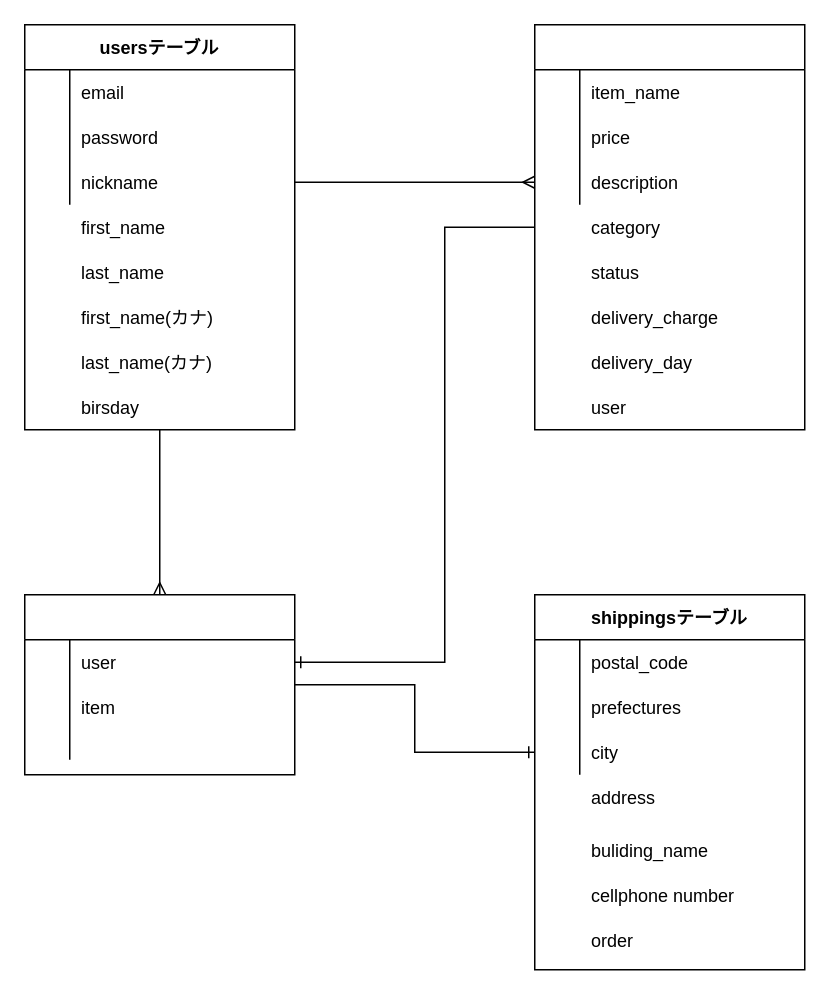
This 830x995 diagram has some shape labels left out. Each missing label, with the box of its shape:
itemsテーブル: (533, 23, 805, 430)
ordersテーブル: (23, 593, 295, 775)
